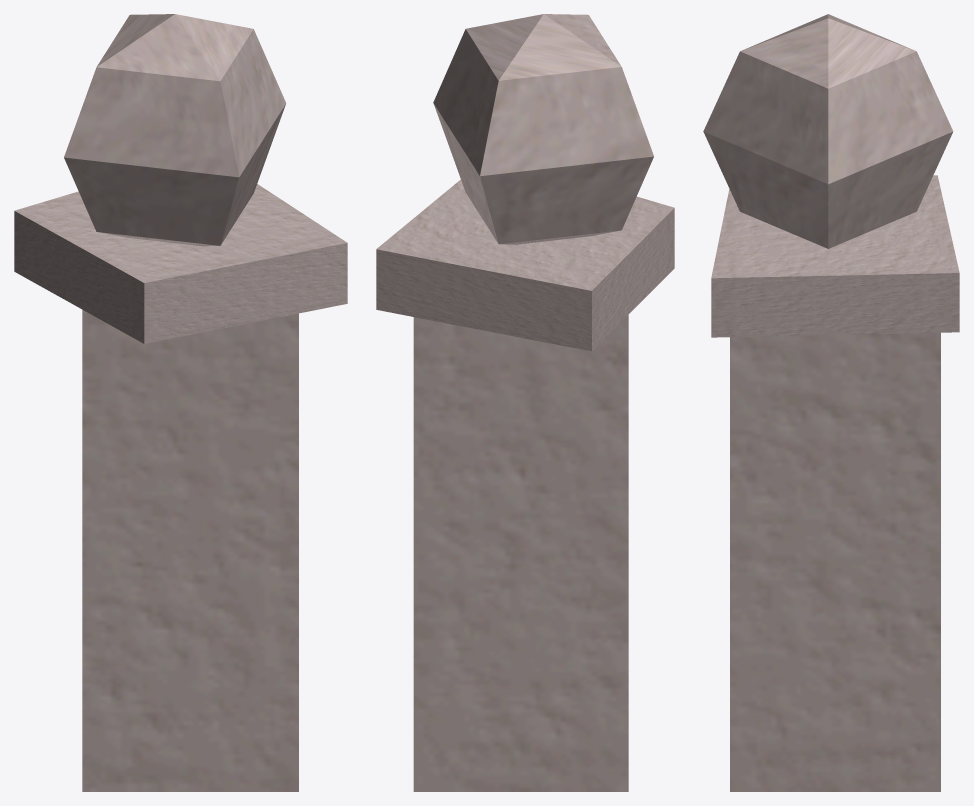
File: ZiersäuleRund [WeißGelb]_2096.glb
The picture shows the model from 3 angles, left to right: view 1: azimuth 30°, elevation 25°; view 2: azimuth 150°, elevation 25°; view 3: azimuth 270°, elevation 25°; orthographic projection. The views are drawn at different scales.
Visible parts, largest first — view 1: pCylinderShape22, pSphereShape16, pCubeShape1; view 2: pCylinderShape22, pSphereShape16, pCubeShape1; view 3: pCylinderShape22, pSphereShape16, pCubeShape1.
Boxes of the visible parts, x1,y1,x2,y2 form: pCylinderShape22: [82, 310, 298, 791]; pSphereShape16: [64, 14, 286, 246]; pCubeShape1: [14, 184, 347, 343]; pCylinderShape22: [413, 315, 628, 791]; pSphereShape16: [433, 14, 653, 244]; pCubeShape1: [376, 179, 674, 351]; pCylinderShape22: [730, 332, 940, 791]; pSphereShape16: [703, 14, 953, 248]; pCubeShape1: [711, 175, 959, 337].
Size of the model in its own units: 0.0933 by 0.3027 by 0.0952.
Materials: 3 (3 with a texture image).
